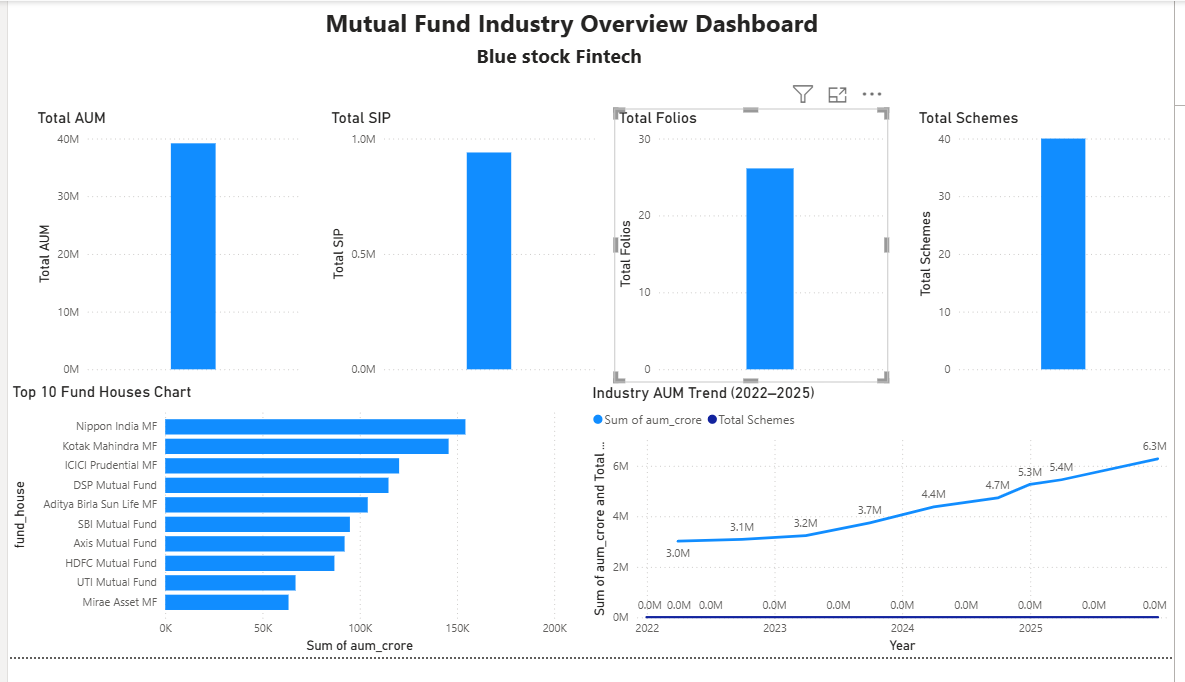

The dashboard page shown, as its layout file describes it:
{"tool":"powerbi","page":{"name":"Industry Overview","canvas":[1280,720],"ordinal":0},"visuals":[{"type":"clusteredColumnChart","fields":{"Y":["clean_aum.Total AUM"]},"box":[27.4,118,299.1,300.5],"z":0},{"type":"clusteredColumnChart","fields":{"Y":["clean_aum.Total SIP"]},"box":[349.9,118,300.5,300.5],"z":1000},{"type":"clusteredColumnChart","fields":{"Y":["clean_aum.Total Folios"]},"box":[665.5,118,300.5,300.5],"z":2000},{"type":"lineChart","title":"Industry AUM Trend (2022–2025)","fields":{"Y":["Sum(clean_aum.aum_crore)","clean_aum.Total Schemes"],"Category":["clean_aum.date.Variation.Date Hierarchy.Year","clean_aum.date.Variation.Date Hierarchy.Quarter","clean_aum.date.Variation.Date Hierarchy.Month","clean_aum.date.Variation.Date Hierarchy.Day"]},"box":[636.7,419.9,643.6,300.5],"z":3000},{"type":"clusteredBarChart","title":" Top 10 Fund Houses Chart","fields":{"Category":["clean_performance.fund_house"],"Y":["Sum(clean_performance.aum_crore)"]},"box":[0,418.5,618.9,301.9],"z":4000},{"type":"clusteredColumnChart","fields":{"Y":["clean_aum.Total Schemes"]},"box":[994.9,118,285.4,300.5],"z":5000},{"type":"textbox","box":[100.2,0,1037.4,54.9],"z":6000},{"type":"textbox","box":[365,39.8,480.3,49.4],"z":7000}]}

Visuals, with their boxes in screenshot pixels (x1, y1, x2, y2), scaled from the page's 1280x720 canvas onto the 1185x682 screenshot:
clusteredColumnChart - clean_aum.Total AUM: [25,112,302,396]
clusteredColumnChart - clean_aum.Total SIP: [324,112,602,396]
clusteredColumnChart - clean_aum.Total Folios: [616,112,894,396]
"Industry AUM Trend (2022–2025)" lineChart: [589,398,1184,681]
" Top 10 Fund Houses Chart" clusteredBarChart: [0,396,573,681]
clusteredColumnChart - clean_aum.Total Schemes: [921,112,1184,396]
textbox: [93,0,1053,52]
textbox: [338,38,783,84]
